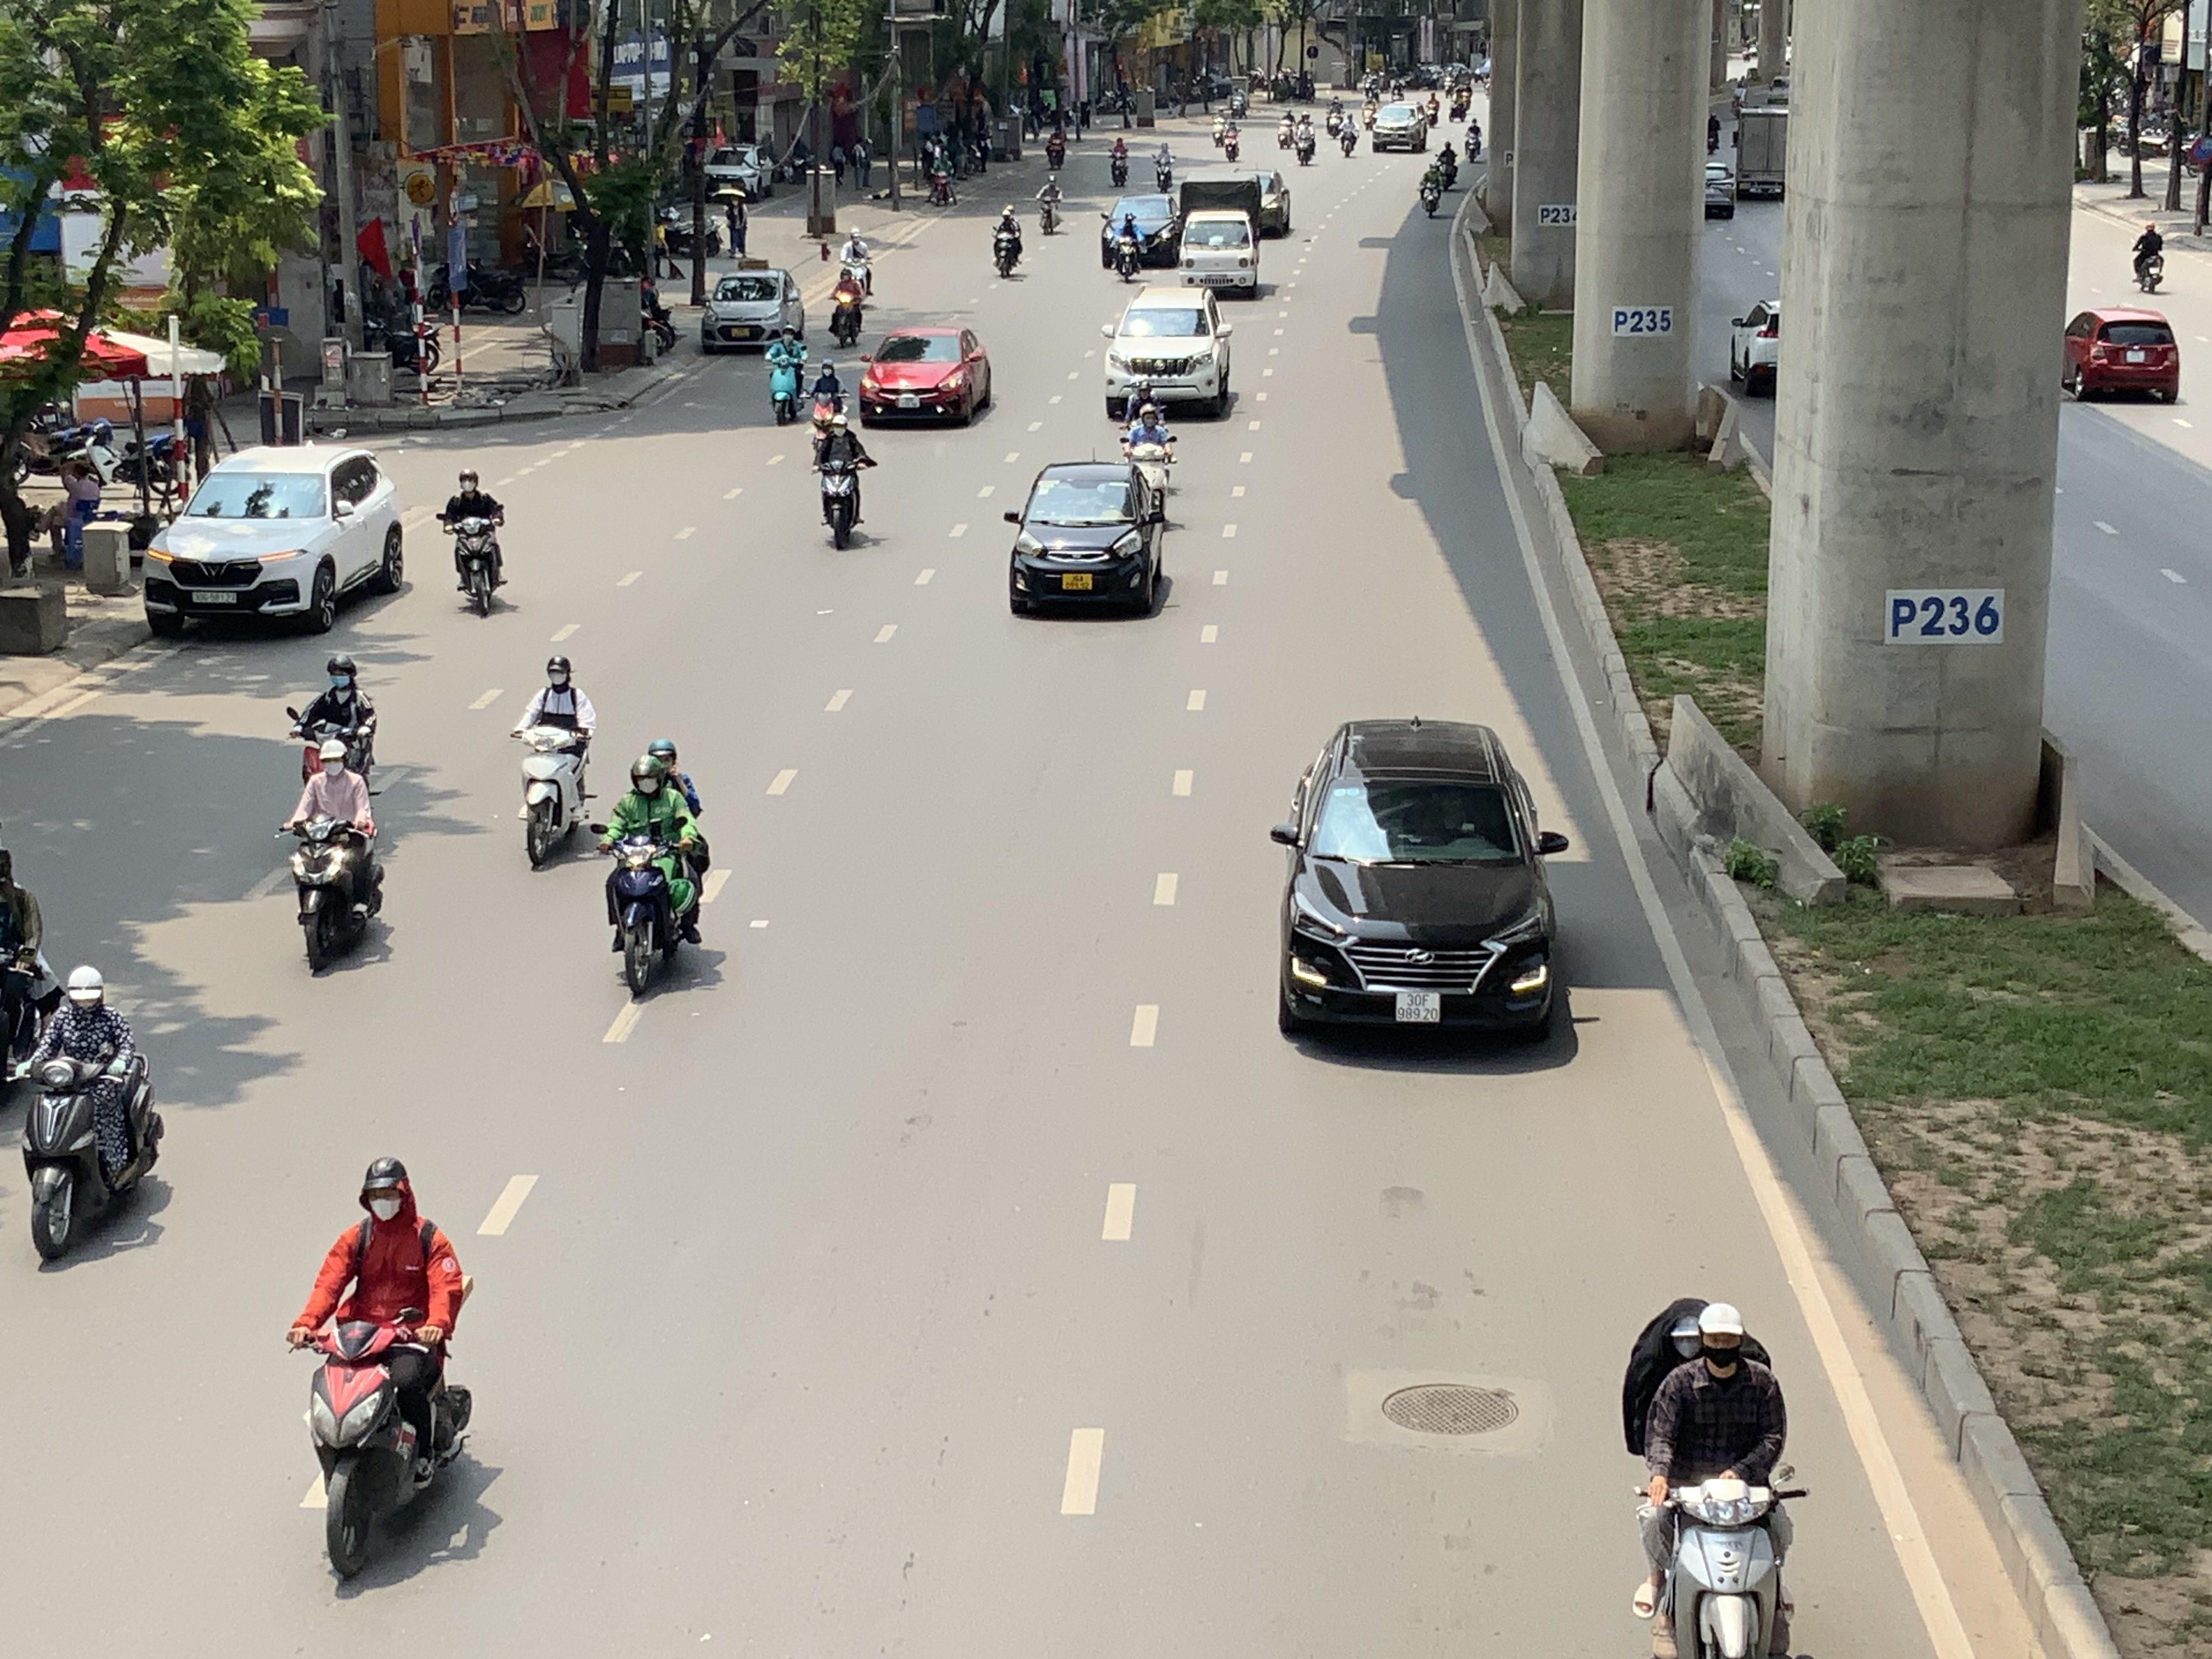BSD: (193, 589, 235, 605)
BSV: (1395, 992, 1440, 1023), (1062, 573, 1092, 591)
car: (1268, 716, 1575, 1049), (141, 444, 409, 638), (1003, 460, 1174, 619), (1101, 286, 1235, 420), (857, 324, 995, 429), (2062, 305, 2182, 401), (700, 268, 805, 350), (1730, 295, 1778, 396), (1371, 99, 1428, 152)
motorbike: (291, 1155, 475, 1596), (1627, 1297, 1808, 1659), (16, 962, 164, 1270), (599, 741, 709, 1002), (284, 737, 387, 978), (514, 655, 596, 871), (287, 653, 378, 788), (439, 469, 509, 617), (815, 410, 876, 549), (1118, 394, 1177, 526), (765, 324, 808, 423), (808, 357, 848, 448), (827, 270, 866, 349), (838, 230, 876, 301), (2130, 220, 2167, 293), (1109, 209, 1146, 282), (991, 204, 1024, 279), (1420, 160, 1444, 216), (1108, 134, 1130, 188), (1294, 117, 1318, 164), (1336, 112, 1359, 159)
truck: (1174, 171, 1266, 296)
